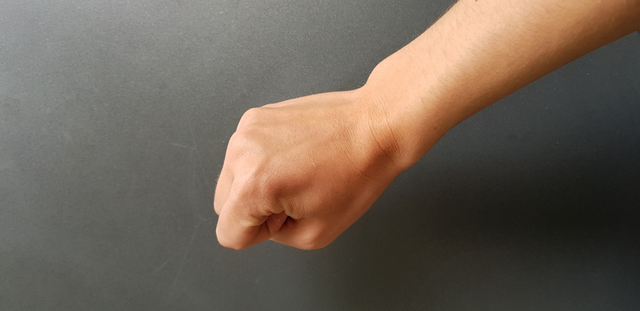Rock: (187, 85, 415, 267)
